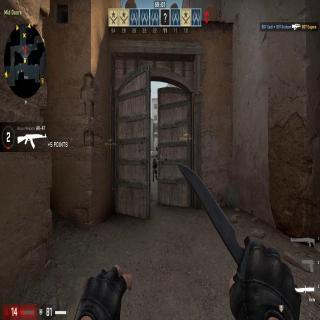CT-Body: (152, 158, 158, 182), (155, 146, 158, 152)
CT-Head: (154, 157, 156, 161), (156, 146, 157, 148)
